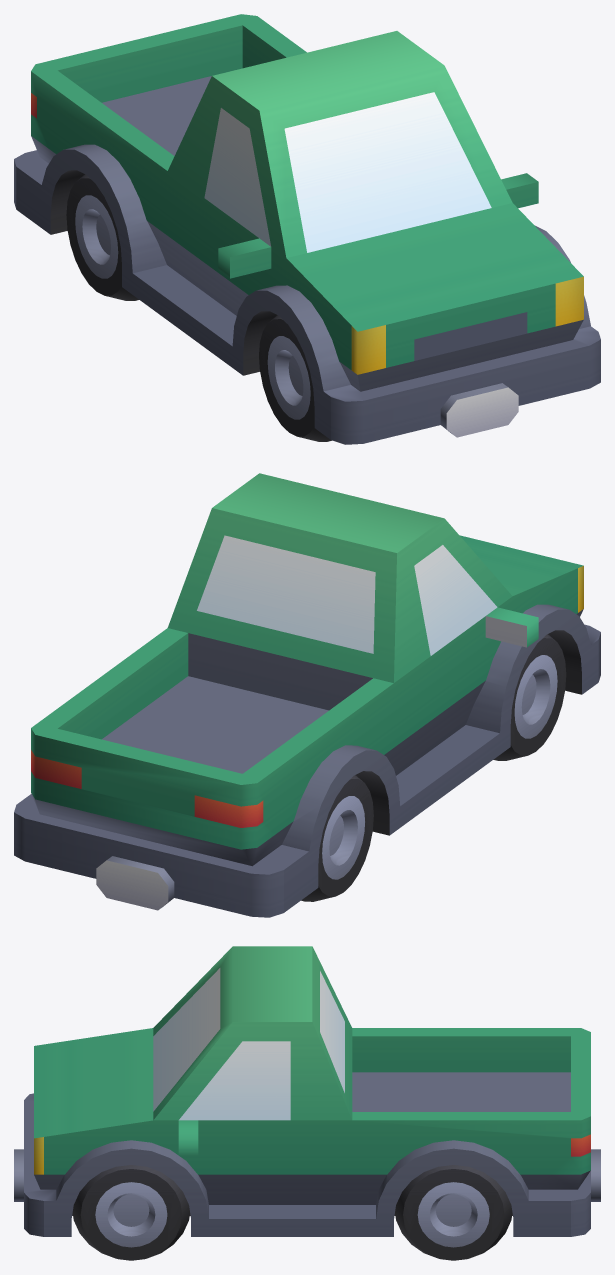
3 renders of one model, top to bottom at view 1: azimuth 30°, elevation 25°; view 2: azimuth 150°, elevation 25°; view 3: azimuth 270°, elevation 25°, orthographic. The views are drawn at different scales.
Parts seen in each view (by area): view 1: body, wheel-front-right, wheel-back-right; view 2: body, wheel-front-right, wheel-back-right; view 3: body, wheel-back-left, wheel-front-left.
Part boxes in pixels (bbox=[...]): body: bbox=[14, 14, 600, 444]; wheel-front-right: bbox=[259, 315, 331, 441]; wheel-back-right: bbox=[66, 174, 138, 300]; body: bbox=[14, 473, 600, 917]; wheel-front-right: bbox=[493, 634, 566, 760]; wheel-back-right: bbox=[301, 775, 373, 901]; body: bbox=[14, 946, 600, 1236]; wheel-back-left: bbox=[395, 1165, 512, 1260]; wheel-front-left: bbox=[72, 1165, 189, 1260].
Bounding box in the file's own units: 1.5 × 1.3 × 2.95.
Materials: 1 (1 with a texture image).
